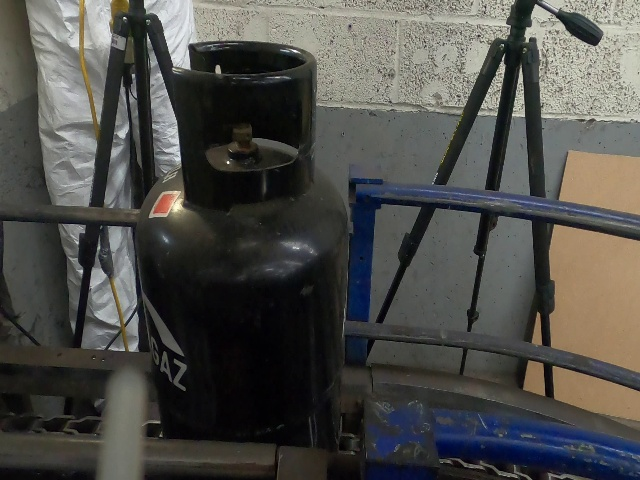gas_bottle: (0, 5, 635, 472)
